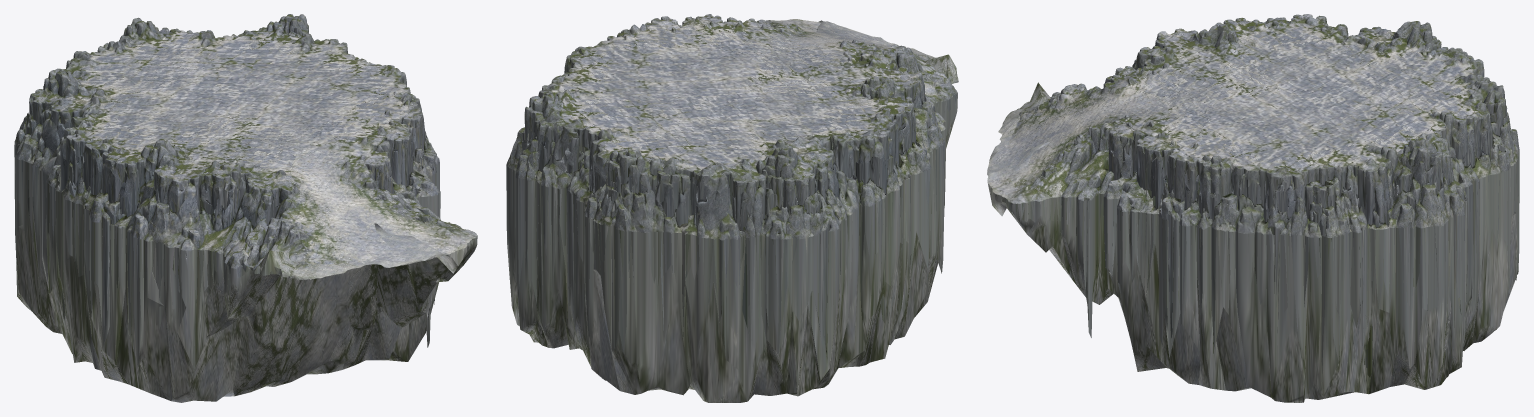
The model's file is summit-plateau.glb.
The picture shows the model from 3 angles, left to right: view 1: azimuth 30°, elevation 25°; view 2: azimuth 150°, elevation 25°; view 3: azimuth 270°, elevation 25°; orthographic projection.
Parts seen in each view (by area): view 1: Mesh_0; view 2: Mesh_0; view 3: Mesh_0.
Part boxes in pixels (bbox=[...]): Mesh_0: bbox=[14, 14, 477, 402]; Mesh_0: bbox=[506, 14, 958, 402]; Mesh_0: bbox=[987, 14, 1519, 402].
Bounding box in the file's own units: 216 × 146 × 285.
1 material, 1 textured.
